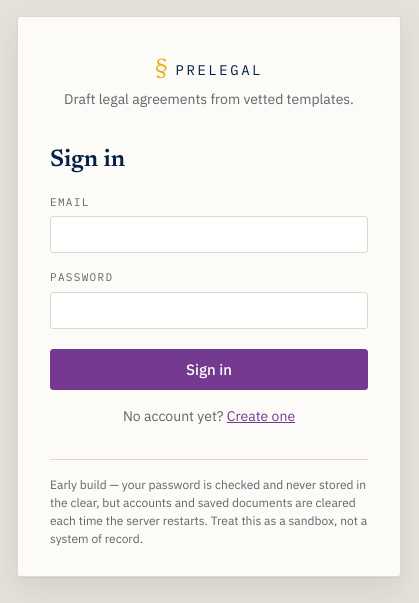
Test: creating an account › switches to the signup form
Check: the field labelled "Email" is shown, box [50,216,368,253]
Click the button "Create one" at (261, 416), box [227,406,295,426]
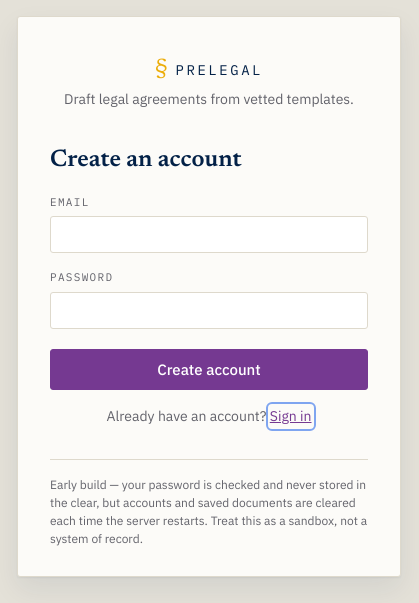
Check: the heading "Create an account" is shown, box [50,148,242,172]
